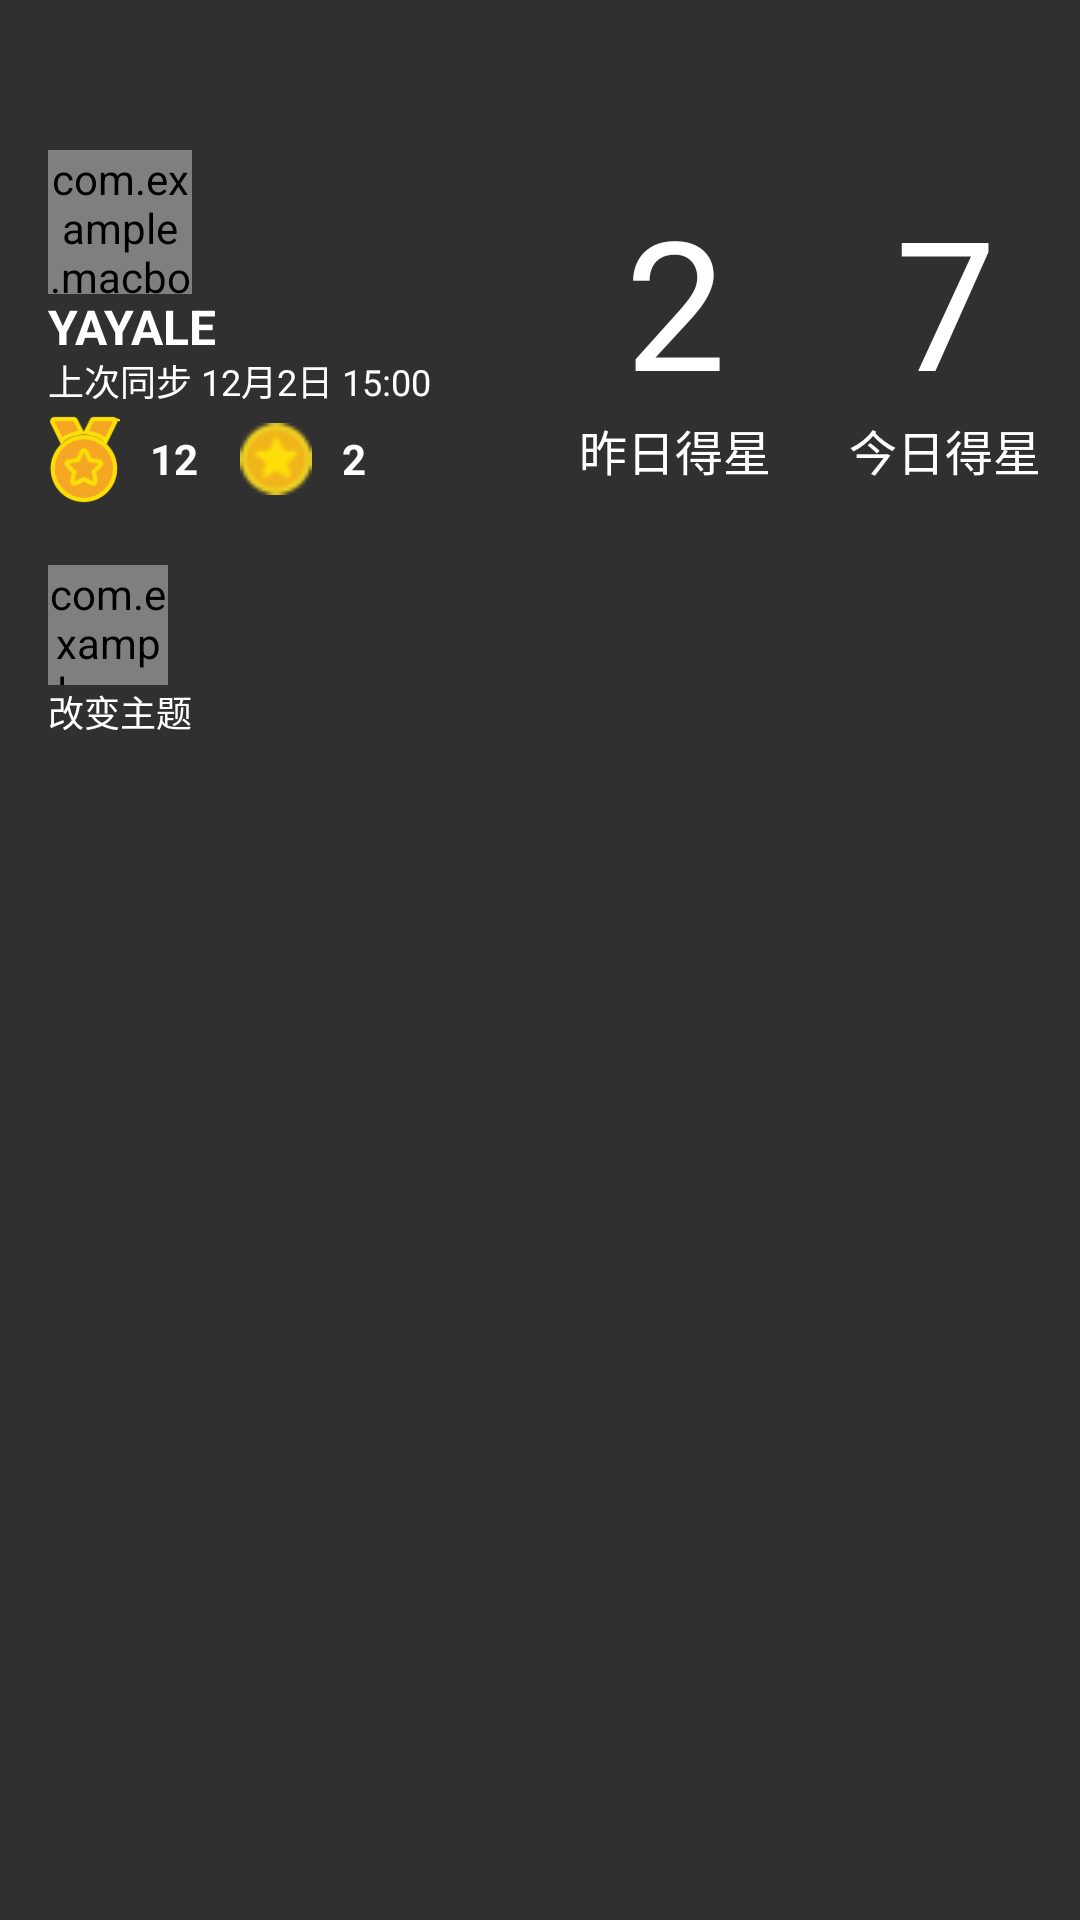

Icon bounding boxes for this 1080px x 1920px phone screenshot, format (x1, y1, x2, y2):
coin: (240, 423, 312, 495)
user level: (50, 417, 120, 502)
